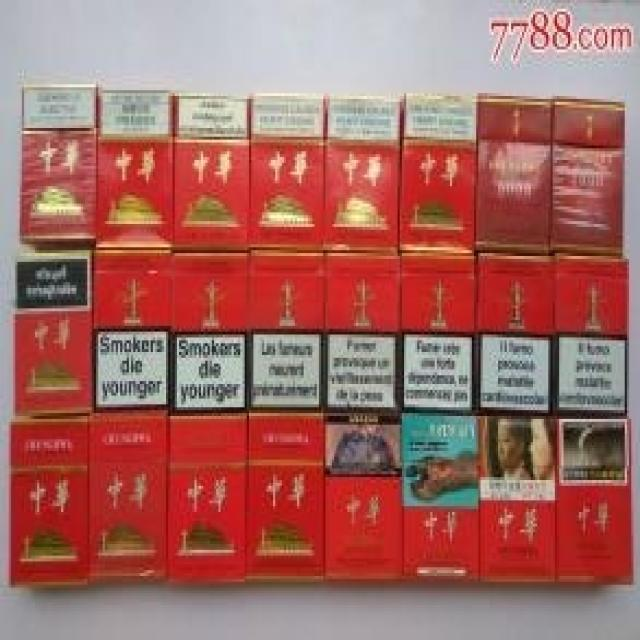box: (9, 410, 90, 588), (323, 410, 404, 585), (90, 413, 170, 588), (402, 410, 481, 585), (168, 413, 247, 585), (478, 410, 555, 585), (13, 247, 94, 413), (94, 247, 175, 413), (555, 416, 633, 588), (247, 410, 323, 582), (398, 93, 478, 253), (96, 90, 175, 247), (476, 253, 553, 413), (323, 250, 400, 410), (22, 81, 96, 247), (402, 253, 478, 413), (553, 256, 629, 416), (247, 253, 323, 413), (476, 96, 553, 253), (173, 93, 249, 250), (173, 253, 247, 413), (249, 93, 323, 250), (323, 93, 398, 247), (553, 99, 625, 256)
